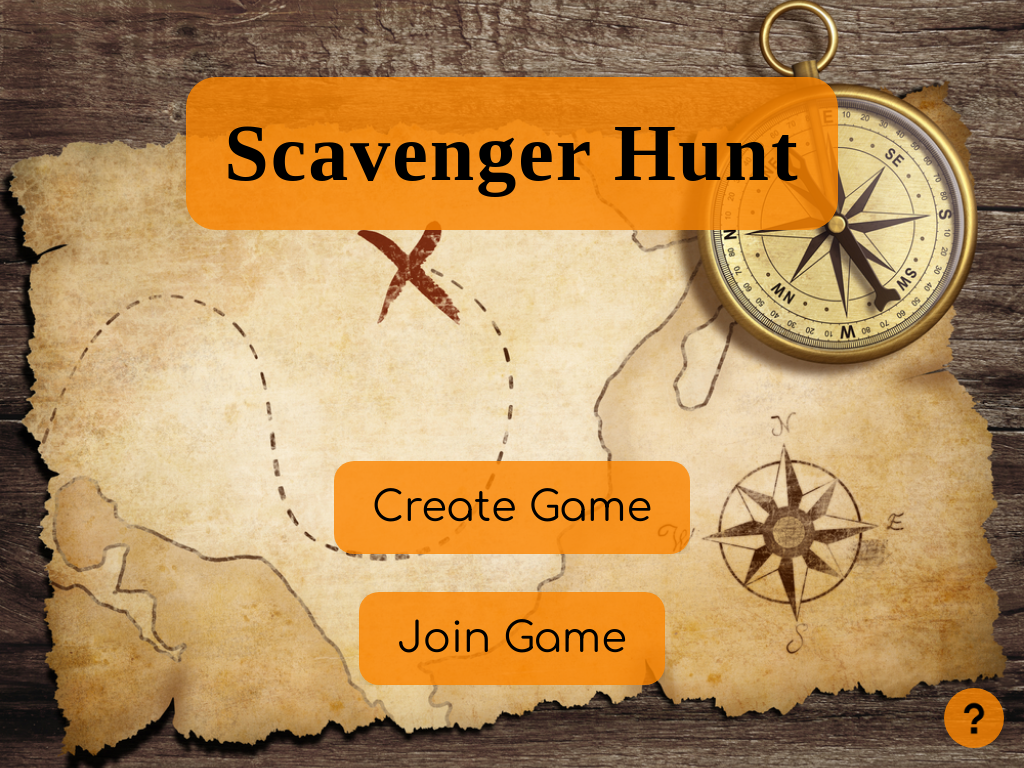
Test case: Test Home Page Screen › redirects to create page when create button is clicked
Click the button "Create Game". click: coordinates (512, 507)
box: x1=334 y1=461 x2=690 y2=554
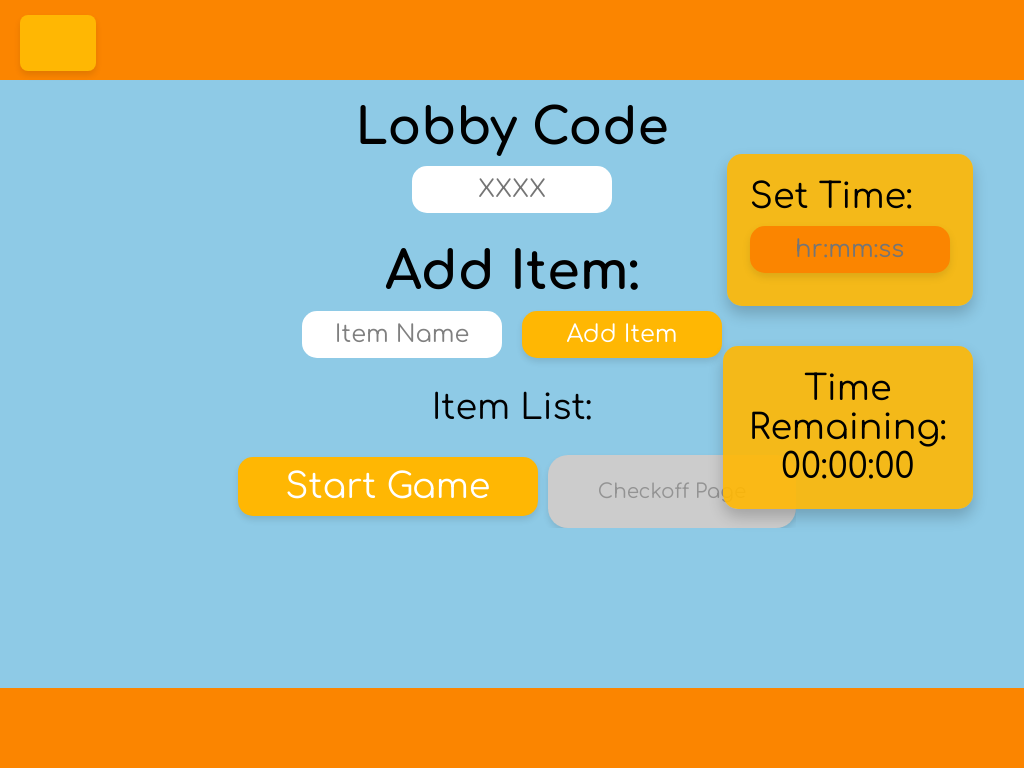
Result: the heading "Lobby Code" is shown at x1=356 y1=100 x2=668 y2=156
Result: the field with placeholder "XXXX" is shown at x1=412 y1=166 x2=612 y2=213
